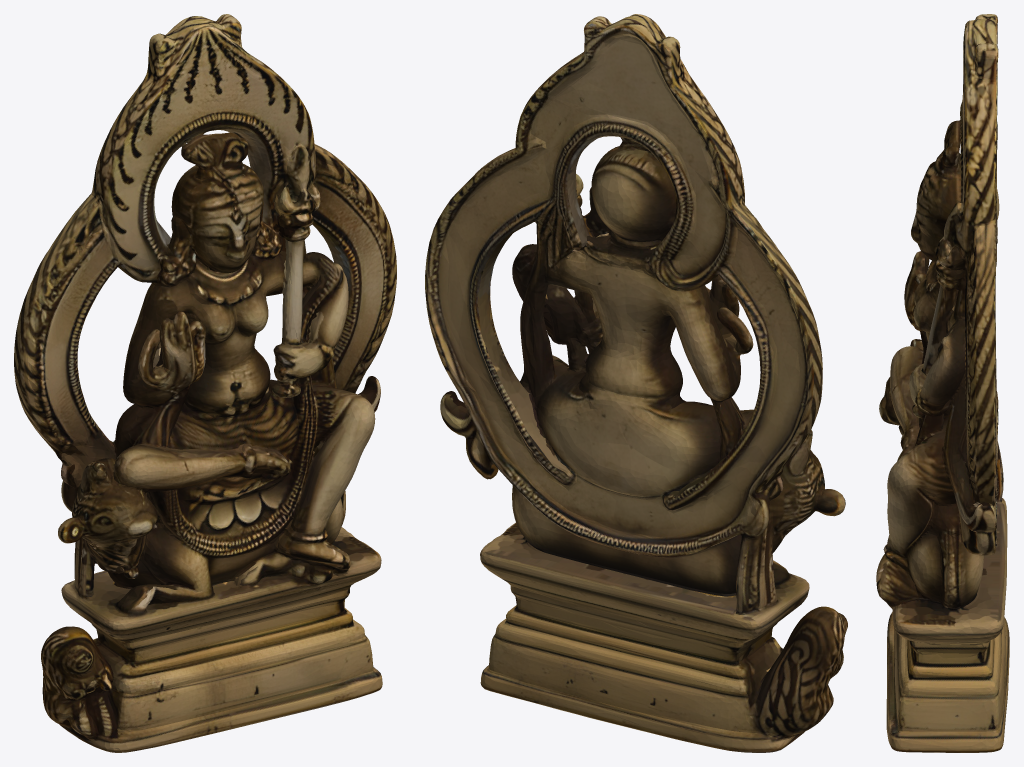
The picture shows the model from 3 angles, left to right: view 1: azimuth 30°, elevation 25°; view 2: azimuth 150°, elevation 25°; view 3: azimuth 270°, elevation 25°; orthographic projection. The views are drawn at different scales.
Parts seen in each view (by area): view 1: textured_mesh; view 2: textured_mesh; view 3: textured_mesh.
Part boxes in pixels (bbox=[...]): textured_mesh: bbox=[14, 14, 396, 752]; textured_mesh: bbox=[425, 14, 847, 752]; textured_mesh: bbox=[876, 14, 1009, 752].
Bounding box in the file's own units: 1.17 × 1.99 × 0.3629.
1 material, 1 textured.
